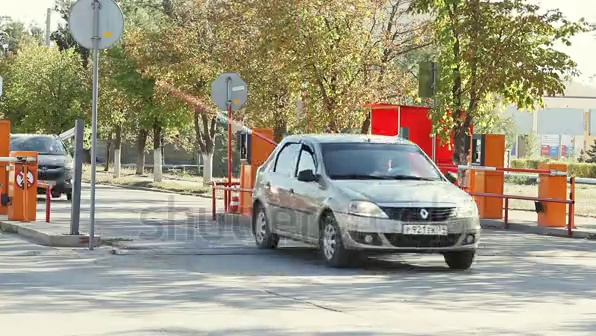licenseplate: (404, 222, 449, 234)
